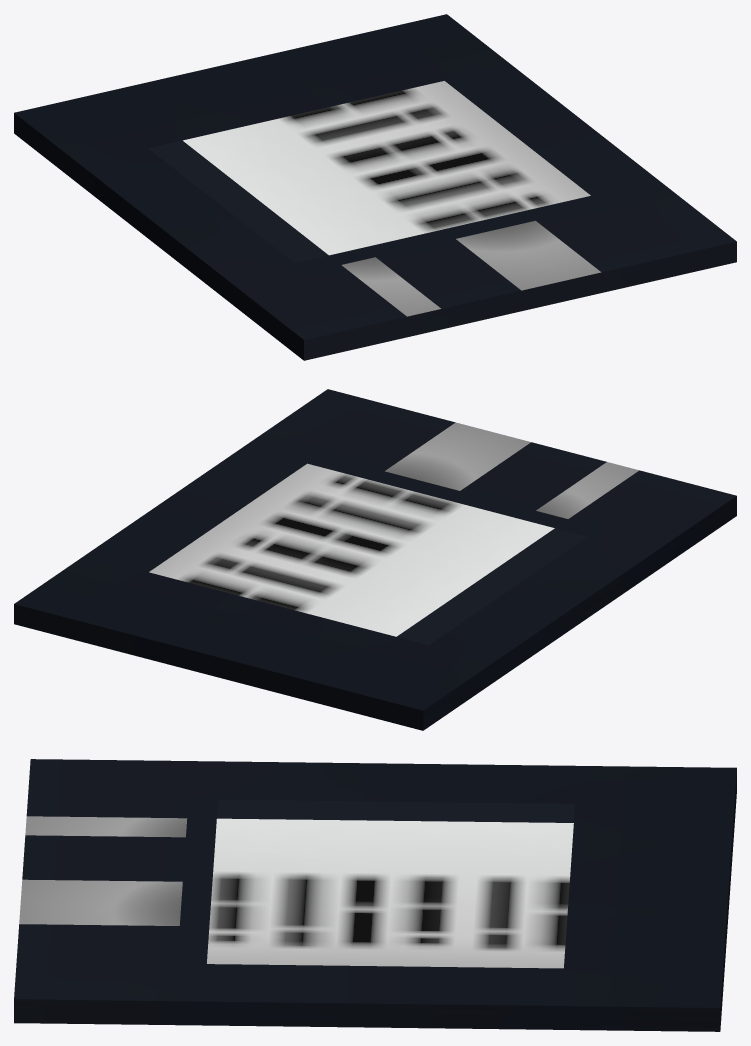
Rendered from Floppy Disk.fbx.
3 renders of one model, top to bottom at view 1: azimuth 30°, elevation 25°; view 2: azimuth 150°, elevation 25°; view 3: azimuth 270°, elevation 25°, orthographic. The views are drawn at different scales.
Visible parts, largest first — view 1: Cube.054; view 2: Cube.054; view 3: Cube.054.
Part boxes in pixels (bbox=[...]): Cube.054: bbox=[14, 14, 736, 360]; Cube.054: bbox=[14, 389, 736, 730]; Cube.054: bbox=[14, 759, 736, 1031].
Bounding box in the file's own units: 22.08 × 0.9887 × 27.11.
